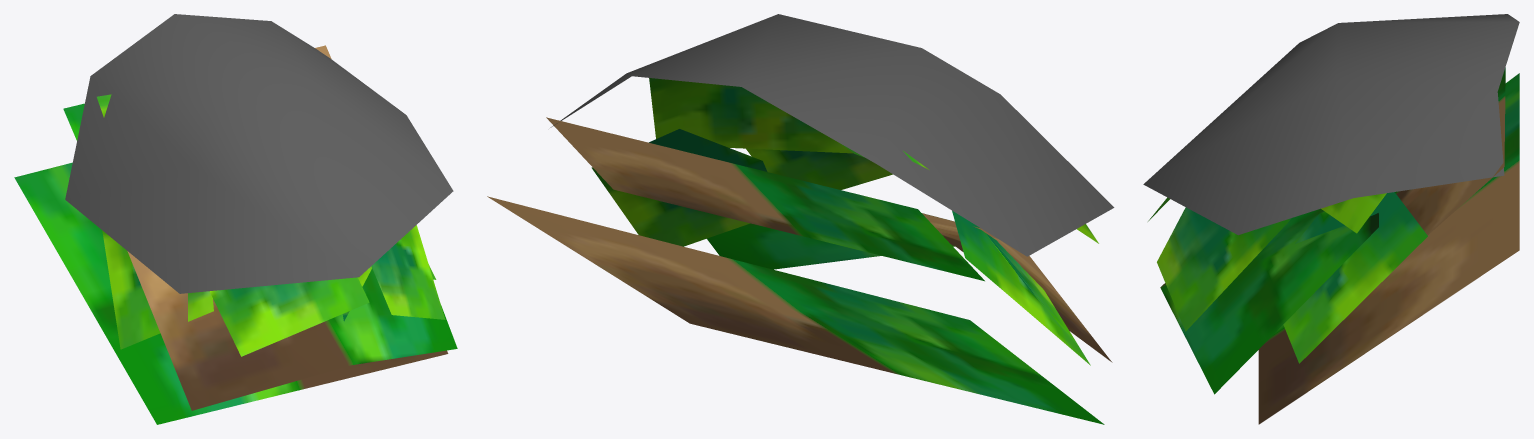
File: fg_bushB_2_s.dae
The picture shows the model from 3 angles, left to right: view 1: azimuth 30°, elevation 25°; view 2: azimuth 150°, elevation 25°; view 3: azimuth 270°, elevation 25°; orthographic projection. The views are drawn at different scales.
Parts seen in each view (by area): view 1: fg_bushB_2_s; view 2: fg_bushB_2_s; view 3: fg_bushB_2_s.
Part boxes in pixels (left/top/right/bottom): fg_bushB_2_s: left=14, top=14, right=457, bottom=424; fg_bushB_2_s: left=487, top=14, right=1114, bottom=424; fg_bushB_2_s: left=1143, top=14, right=1519, bottom=424.
Bounding box in the file's own units: 43.24 × 35.41 × 37.79.
Materials: 1 (1 with a texture image).
